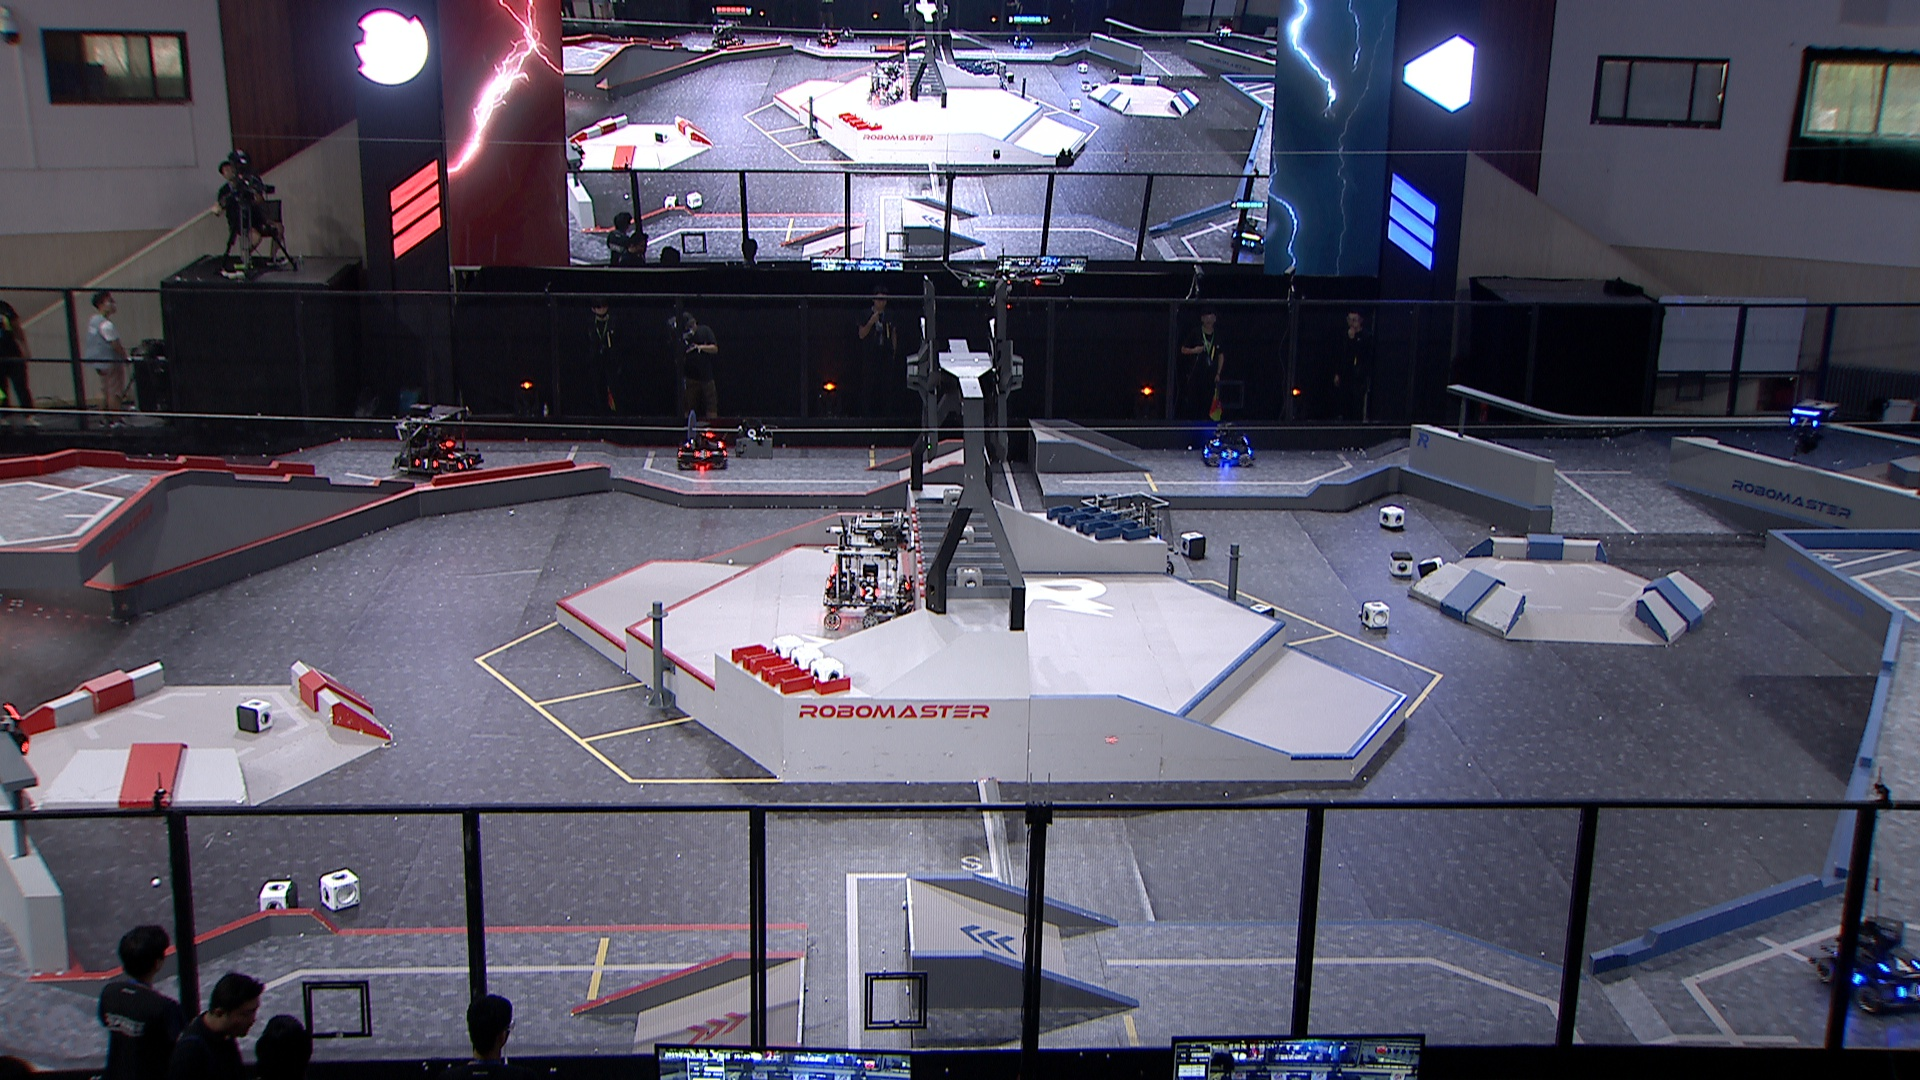armor: (1879, 951, 1920, 975), (1894, 978, 1920, 1004), (1789, 413, 1822, 429), (858, 585, 884, 603), (442, 447, 469, 462), (414, 456, 439, 472), (456, 456, 480, 471), (1218, 446, 1238, 462), (694, 447, 713, 462), (1207, 433, 1222, 450)
car: (814, 513, 923, 632), (1815, 905, 1920, 1019), (1087, 491, 1179, 583), (392, 398, 481, 479), (674, 418, 732, 471), (1200, 418, 1258, 469)
ignore: (866, 59, 906, 105), (1229, 215, 1269, 256), (705, 17, 749, 53), (978, 58, 1013, 91), (566, 140, 589, 173), (1215, 17, 1240, 45), (816, 25, 839, 50), (1011, 33, 1038, 50)
watcher: (1784, 392, 1840, 454)
